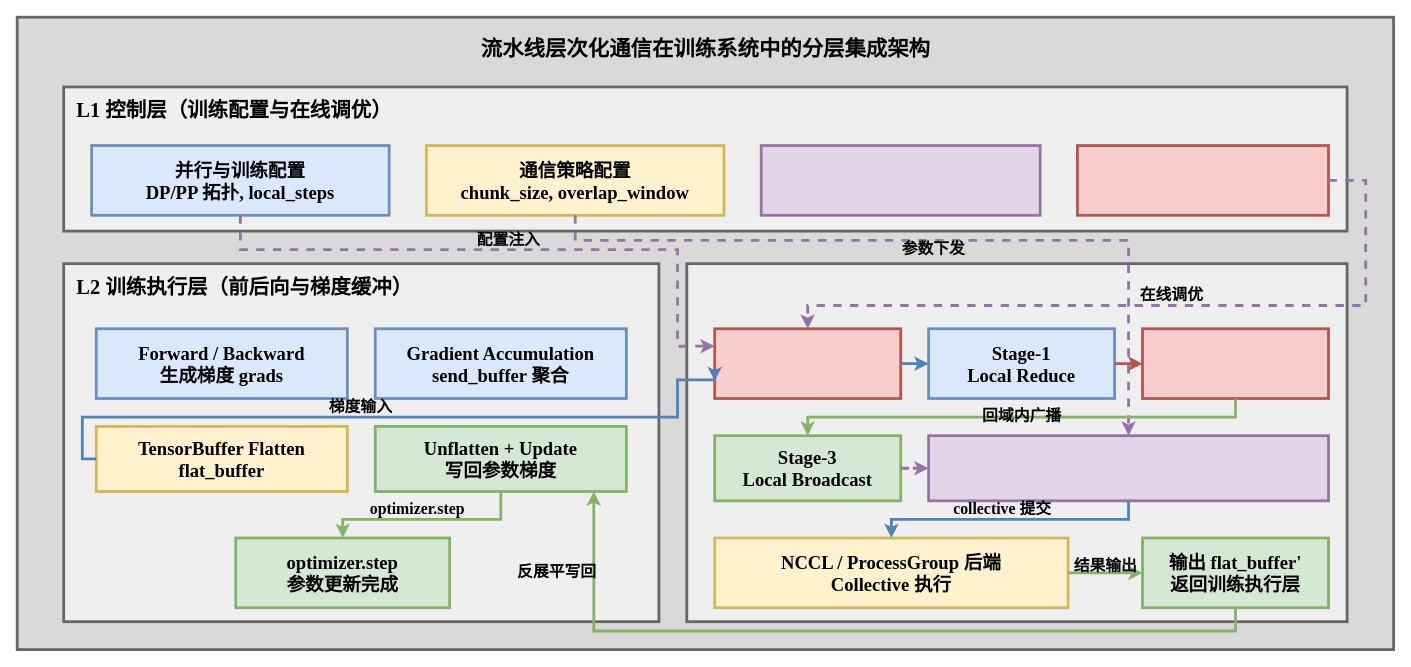
The diagram is 1411 pixels wide and 667 high, and some of its shapes have lost their labels. The box of each missing label's shape, as (x1, y1, x2, y2) in pixels:
Chunk 切分 N = 8~16: (713, 327, 902, 399)
L3 通信调度层（流水线层次化 All-Reduce）: (685, 262, 1348, 623)
Stage-2 Inter Reduce: (1141, 327, 1329, 399)
多流通信运行时 intra_stream / inter_stream / CUDA Event: (927, 434, 1329, 502)
自适应决策 动态调整 chunk 大小: (1076, 144, 1329, 216)
运行时 链路利用率采样: (759, 144, 1041, 216)
